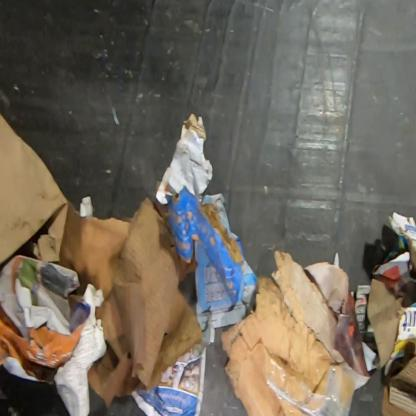cardboard: (56, 195, 204, 412), (218, 275, 357, 415), (0, 92, 70, 268), (154, 186, 246, 306), (270, 249, 346, 363), (382, 210, 416, 376), (382, 210, 416, 376), (154, 110, 214, 204), (380, 340, 415, 415)
